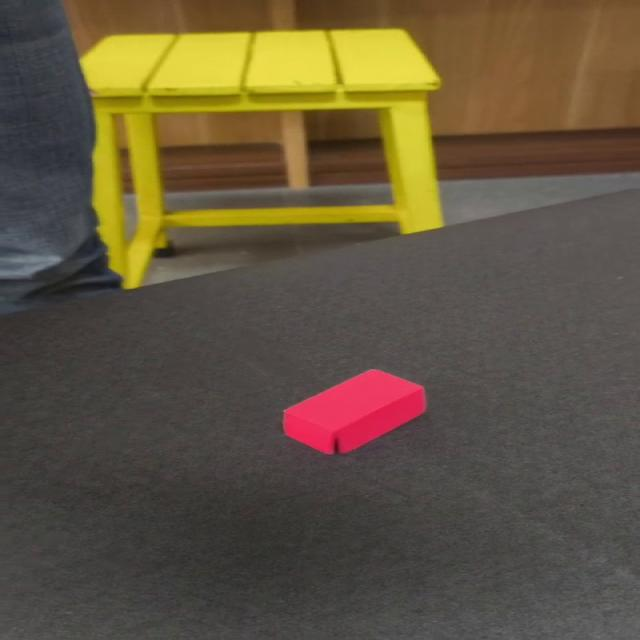red block: (280, 367, 427, 455)
